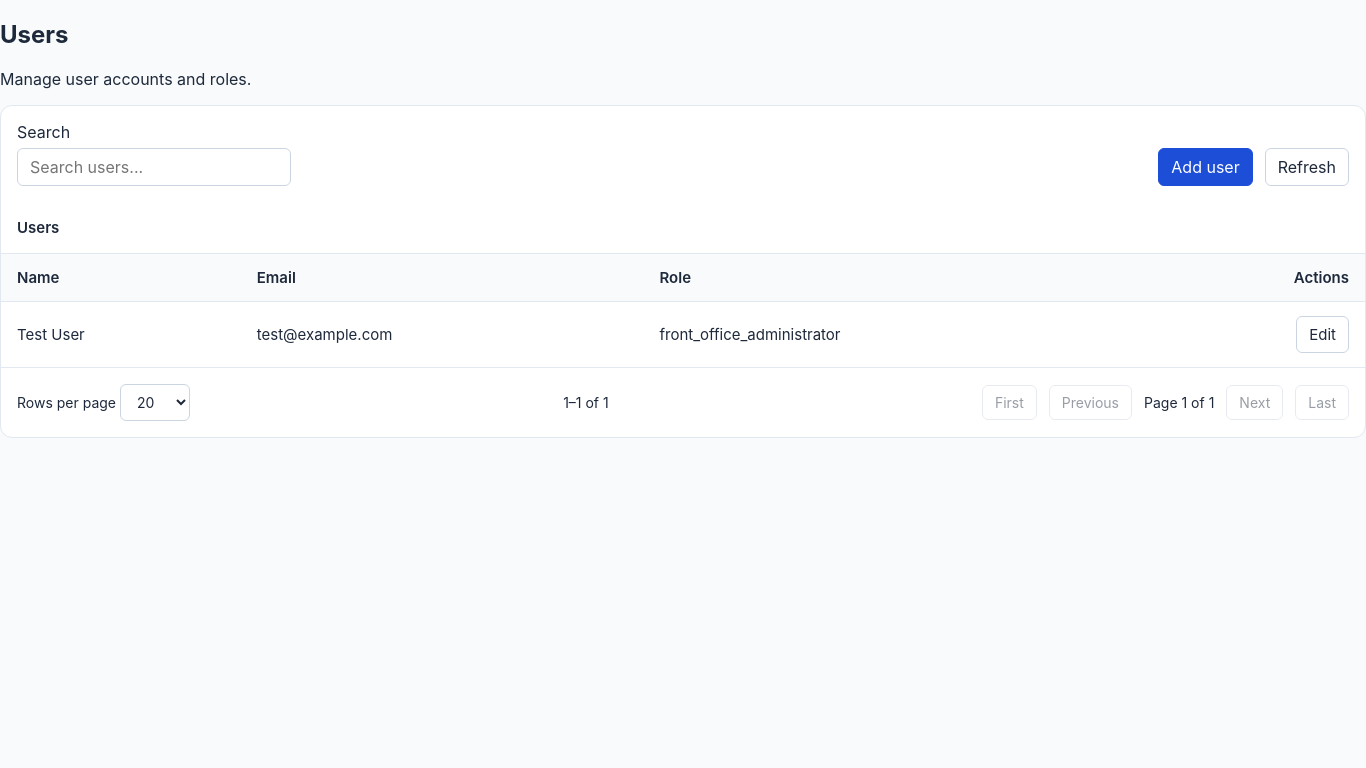
Scenario: Users page › blocks saving after detail failure and retries fetching
Step 1. Click the button with aria-label "Edit Test User" → (1323, 334), box [1296,316,1349,353]
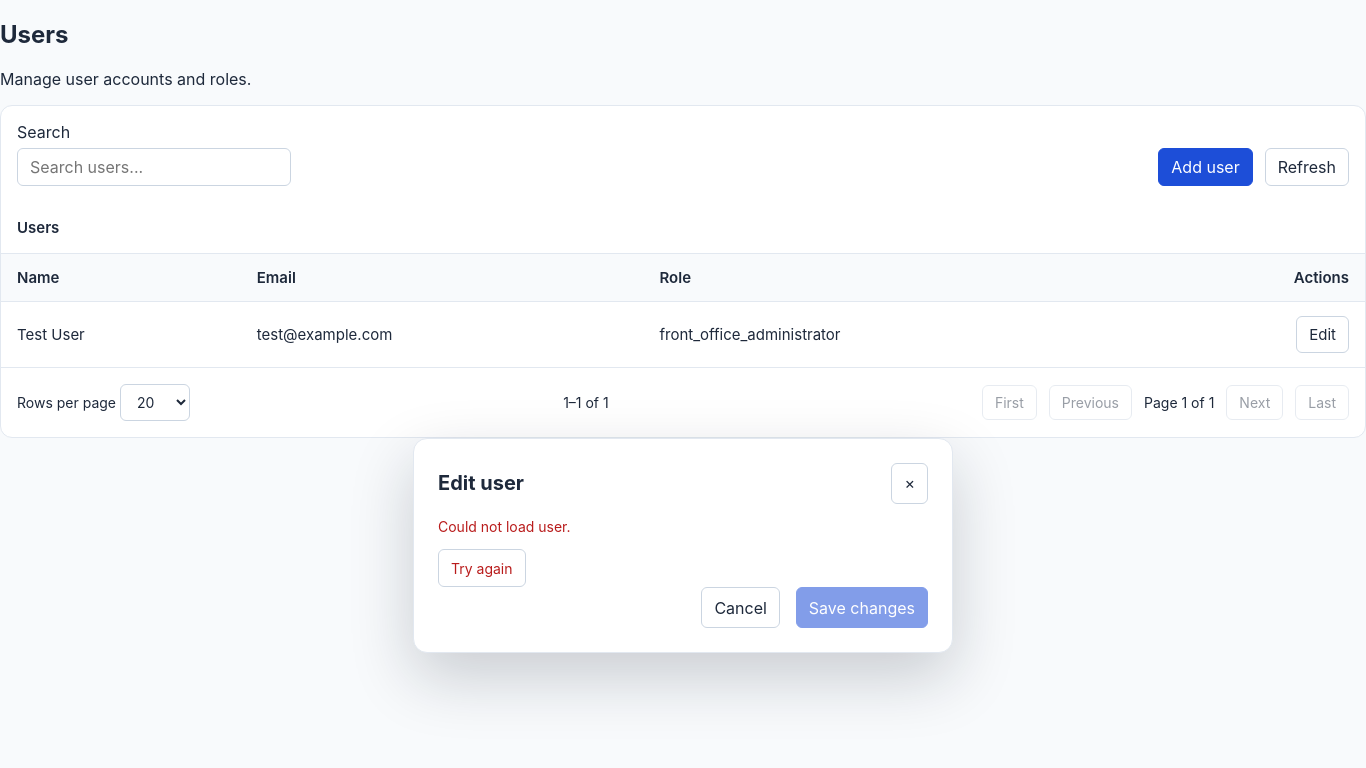
Now the message "Could not load user. Try again" is shown, box [438,518,570,587]
Now the submit button is disabled, box [796,587,928,628]
Step 2. Submit the form, box [438,463,928,628]
Step 3. Click the button "Try again" → (482, 568), box [438,549,526,587]
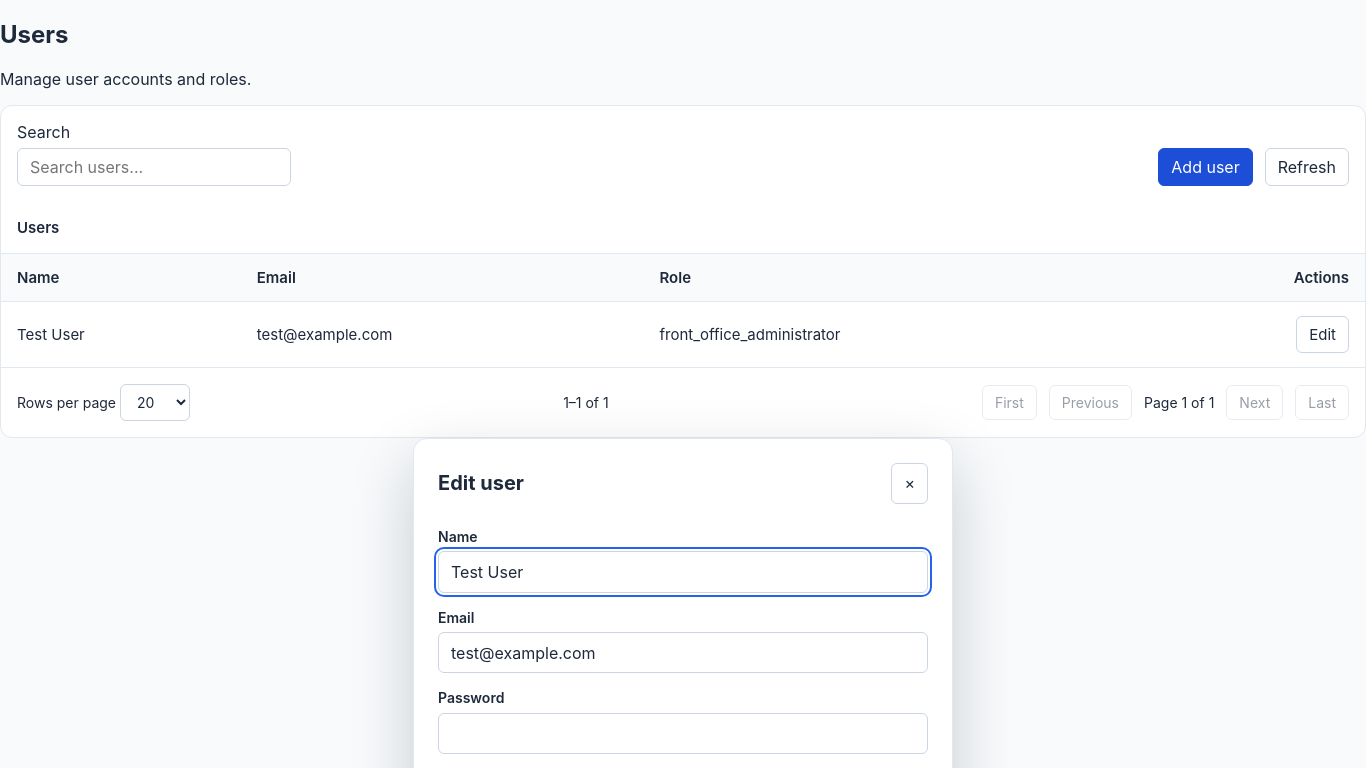
Now the field named "name" is shown, box [438,551,928,593]
